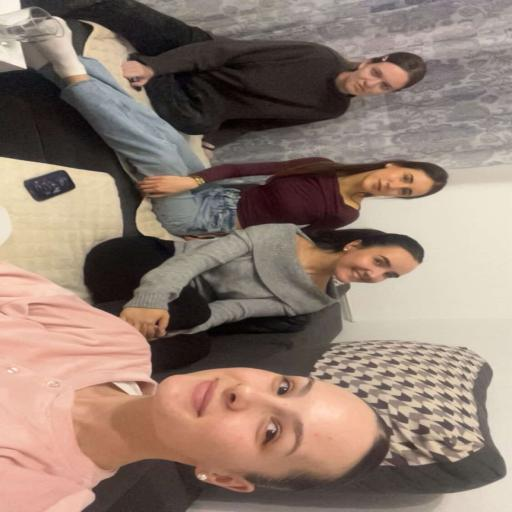marija: (148, 364, 374, 476)
masa: (358, 160, 446, 200)
